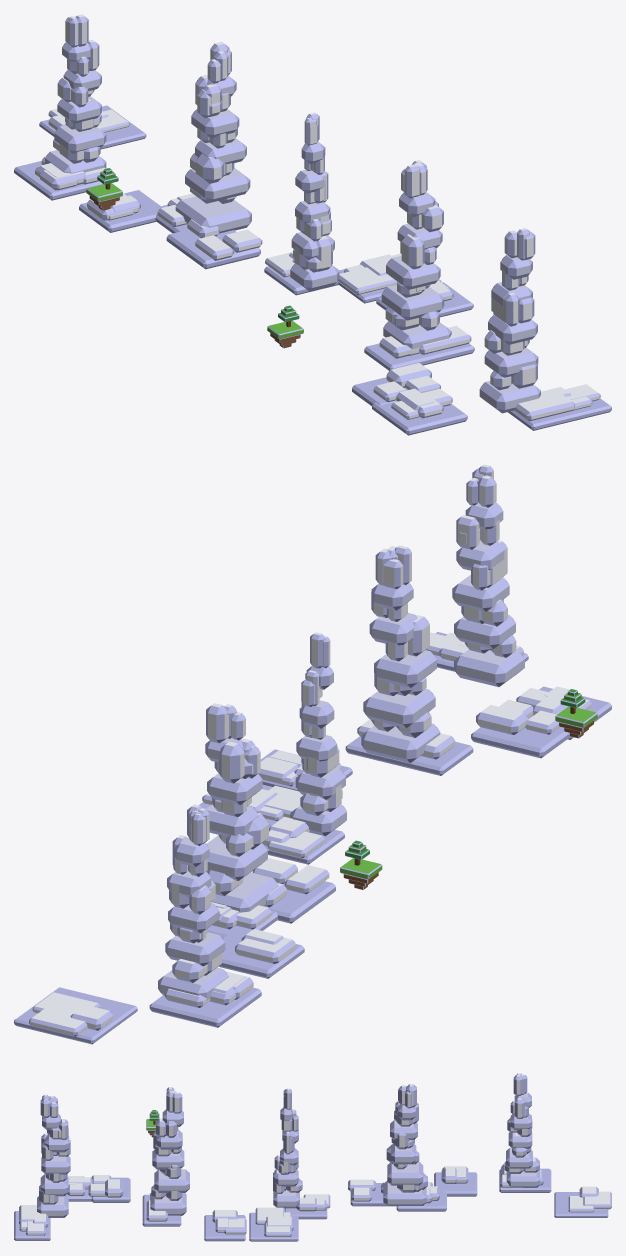
File: mar-de-nubes_LadoDer.glb
3 renders of one model, top to bottom at view 1: azimuth 30°, elevation 25°; view 2: azimuth 150°, elevation 25°; view 3: azimuth 270°, elevation 25°, orthographic. The views are drawn at different scales.
Visible parts, largest first — view 1: Mapa_mar_de_nubes_LadoDer; view 2: Mapa_mar_de_nubes_LadoDer; view 3: Mapa_mar_de_nubes_LadoDer.
Part boxes in pixels (x1=…): Mapa_mar_de_nubes_LadoDer: x1=14, y1=14, x2=611, y2=435; Mapa_mar_de_nubes_LadoDer: x1=14, y1=464, x2=611, y2=1044; Mapa_mar_de_nubes_LadoDer: x1=14, y1=1073, x2=611, y2=1241.
Size of the model in its own units: 113 by 82.73 by 358.
1 material, 1 textured.
